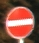No entry: (6, 6, 34, 38)
